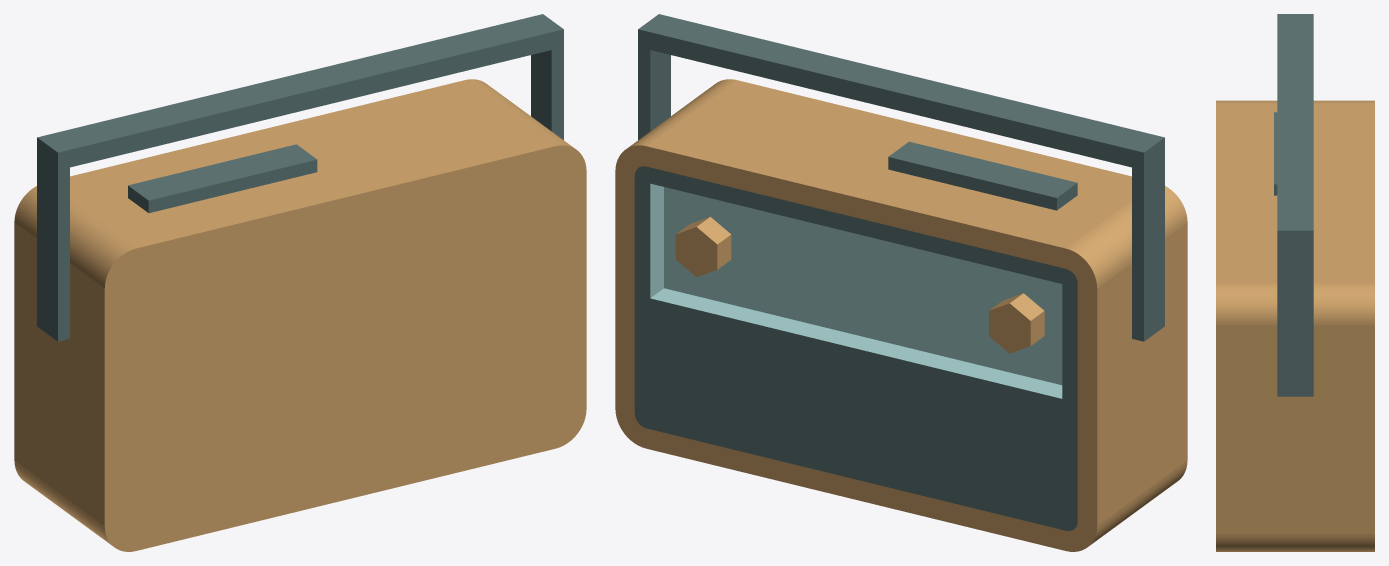
The model's file is radio.glb.
3 views of the same model, side by side, from view 1: azimuth 30°, elevation 25°; view 2: azimuth 150°, elevation 25°; view 3: azimuth 270°, elevation 25° (orthographic). The views are drawn at different scales.
Size of the model in its own units: 3.15 by 2.28 by 0.975.
